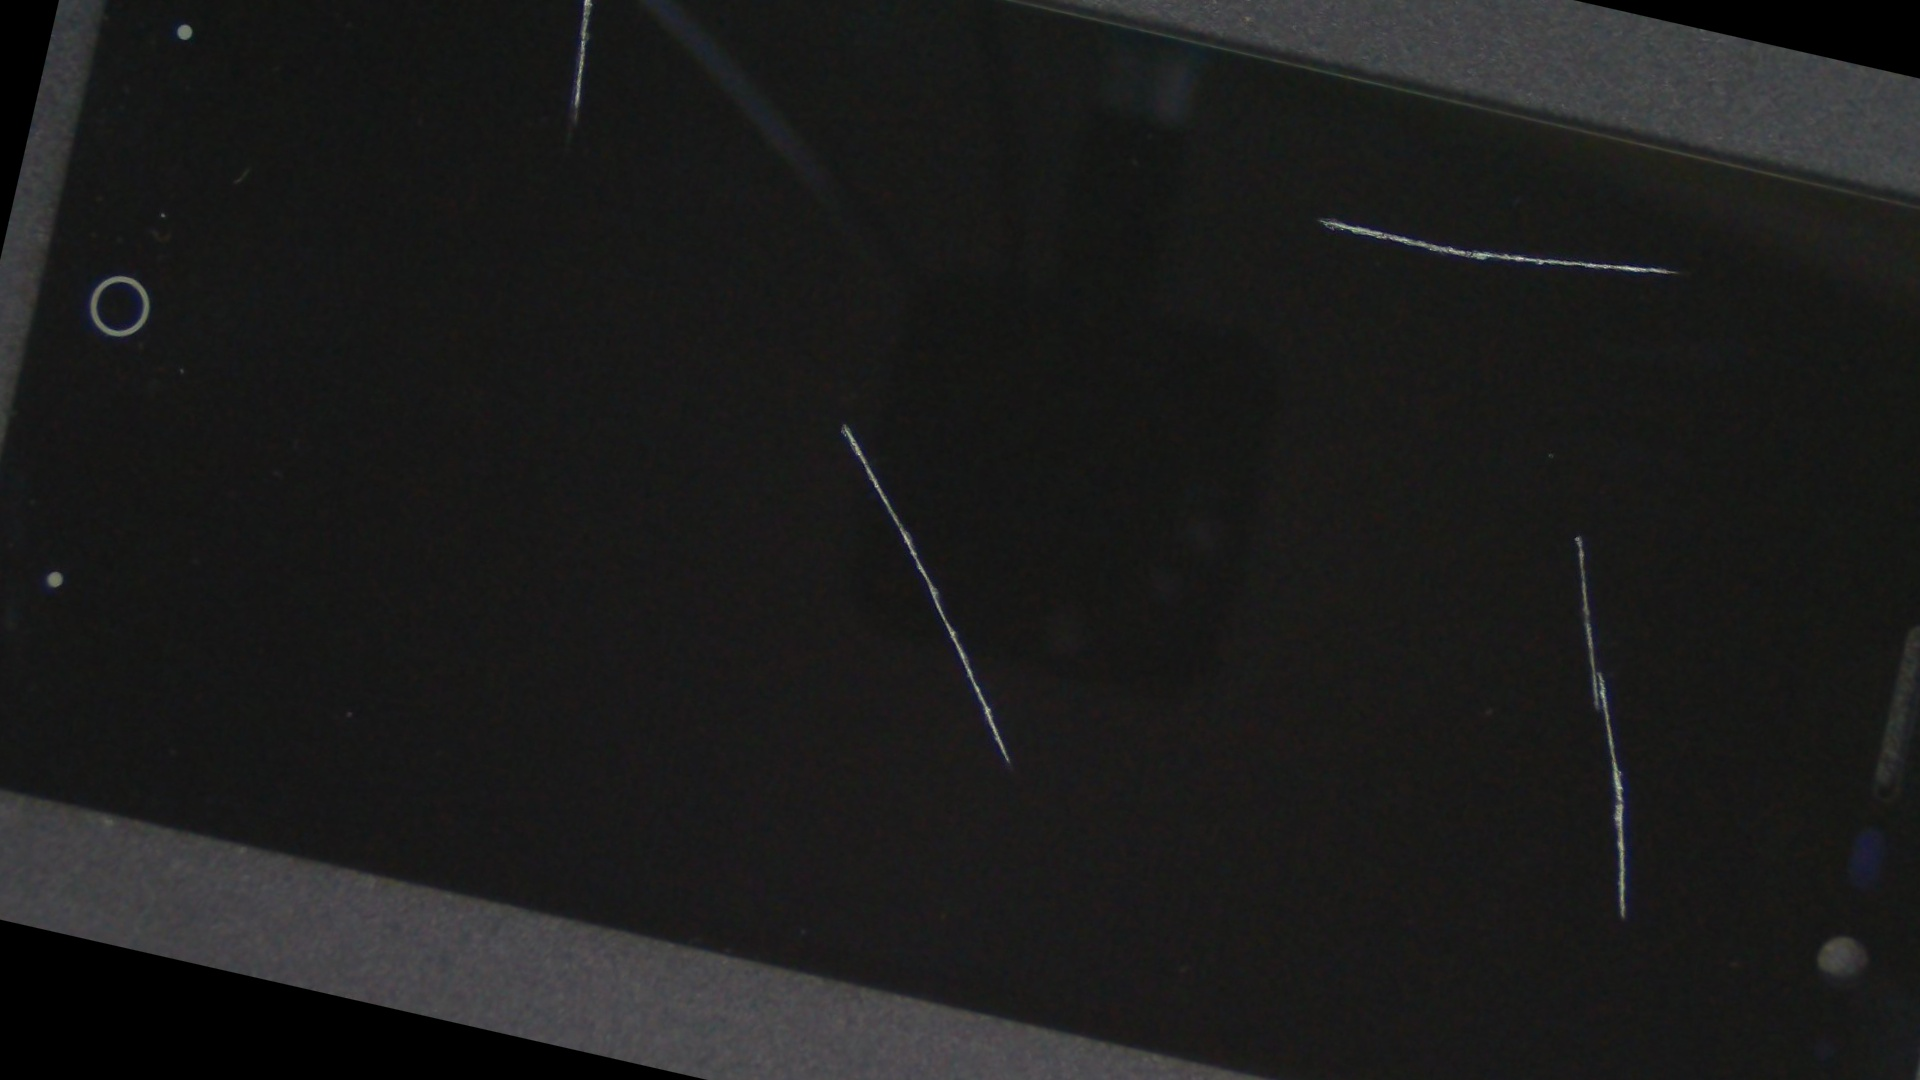oil: (741, 103, 1920, 909), (364, 47, 1329, 798), (845, 0, 1920, 500), (322, 0, 858, 108)
